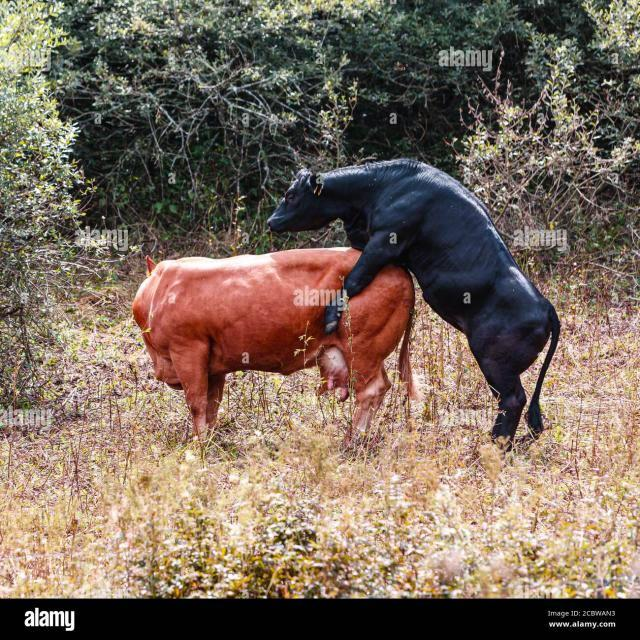cow: (269, 159, 560, 443), (132, 249, 415, 437), (325, 300, 341, 333)
